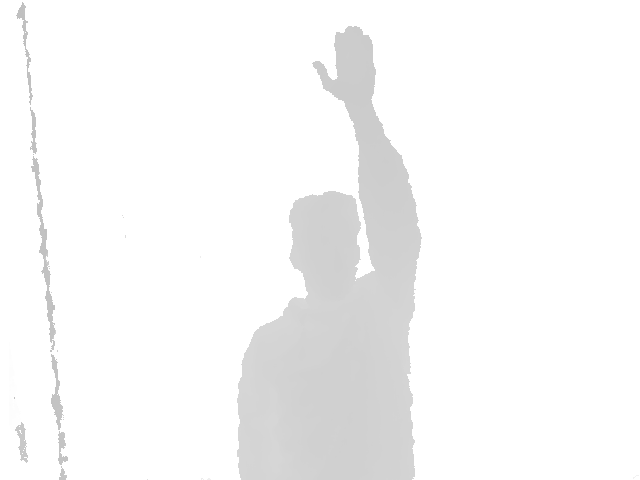hand: (311, 24, 377, 109)
head: (288, 190, 361, 288)
person: (235, 23, 422, 480)
